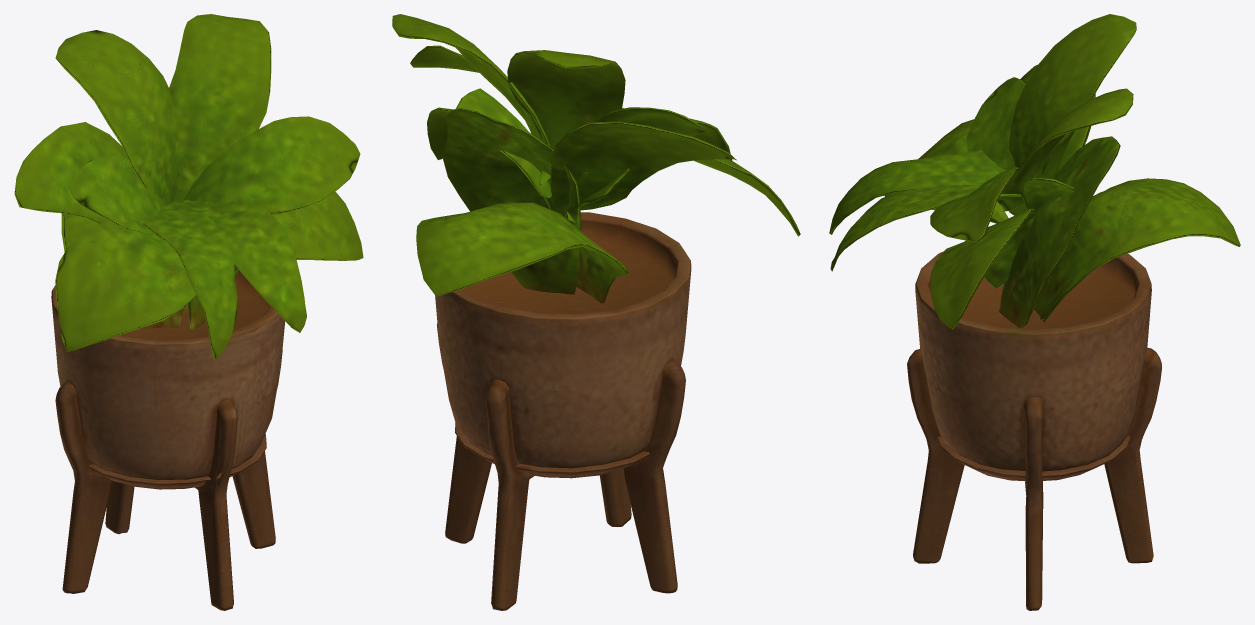
File: small_potted_plant.glb
3 views of the same model, side by side, from view 1: azimuth 30°, elevation 25°; view 2: azimuth 150°, elevation 25°; view 3: azimuth 270°, elevation 25° (orthographic). The views are drawn at different scales.
Parts seen in each view (by area): view 1: geometry_0; view 2: geometry_0; view 3: geometry_0.
Boxes of the visible parts, bbox=[...] form: geometry_0: bbox=[14, 14, 363, 610]; geometry_0: bbox=[392, 14, 800, 610]; geometry_0: bbox=[829, 14, 1240, 610].
Size of the model in its own units: 0.6652 by 1 by 0.7247.
Materials: 1 (1 with a texture image).
